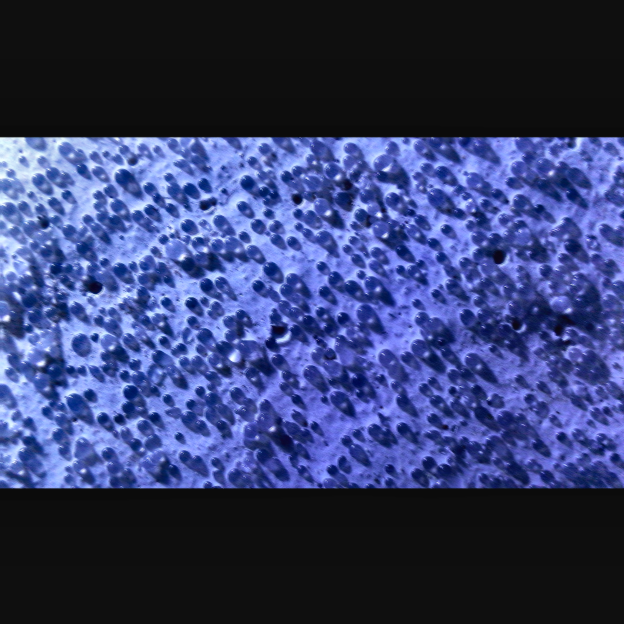GrassBeadSeg: (4, 165, 580, 480), (71, 159, 595, 469), (73, 143, 471, 472), (81, 148, 585, 393), (85, 257, 612, 474), (127, 259, 623, 483), (26, 218, 554, 420), (111, 135, 470, 420), (176, 160, 514, 457), (107, 154, 452, 443), (276, 193, 613, 487), (204, 220, 618, 459), (50, 251, 567, 436), (44, 158, 471, 376), (111, 174, 479, 421), (130, 139, 425, 445), (128, 292, 614, 471), (143, 212, 509, 444), (300, 141, 606, 418), (198, 135, 559, 365), (61, 224, 417, 452), (201, 238, 528, 486), (94, 201, 438, 422), (365, 140, 612, 435), (73, 164, 577, 306), (119, 252, 567, 411), (211, 294, 584, 478), (135, 236, 437, 460), (105, 206, 366, 465), (43, 306, 450, 472), (30, 163, 303, 408), (227, 174, 517, 398), (244, 226, 523, 453), (159, 285, 506, 465), (381, 217, 609, 484), (106, 255, 471, 419), (214, 248, 537, 428), (178, 193, 427, 423), (128, 190, 399, 398), (61, 383, 603, 486), (196, 139, 440, 363), (258, 182, 493, 410), (98, 348, 554, 465), (196, 217, 560, 360), (114, 351, 509, 480), (405, 165, 566, 478), (190, 158, 373, 429), (197, 170, 521, 320), (33, 278, 623, 360), (294, 175, 571, 347), (213, 245, 434, 460), (394, 221, 611, 432), (208, 376, 608, 487), (189, 187, 501, 325), (333, 274, 609, 428), (201, 300, 608, 403), (164, 289, 618, 373), (102, 182, 509, 275), (349, 135, 594, 262), (184, 397, 549, 479), (348, 192, 501, 386), (485, 241, 623, 443), (238, 164, 448, 292), (331, 322, 598, 421), (112, 167, 338, 283), (29, 171, 448, 233), (71, 331, 298, 445), (51, 426, 552, 477), (215, 376, 500, 465), (166, 279, 297, 472), (327, 240, 481, 403), (383, 268, 505, 470), (324, 140, 397, 473), (354, 149, 526, 289), (516, 188, 615, 429), (178, 158, 523, 227), (130, 298, 305, 434), (60, 430, 606, 472), (370, 291, 575, 401), (445, 143, 538, 378), (120, 259, 277, 397), (393, 263, 522, 416), (63, 391, 508, 435), (234, 311, 442, 404), (25, 342, 496, 381), (418, 229, 485, 467), (342, 140, 464, 266), (393, 294, 531, 405), (178, 221, 284, 363), (242, 304, 569, 349), (61, 163, 263, 234), (75, 162, 141, 366), (536, 176, 619, 337), (45, 322, 299, 374), (536, 156, 582, 437), (382, 173, 469, 321), (237, 161, 375, 250), (414, 312, 520, 418), (164, 180, 540, 208), (59, 141, 184, 223), (1, 398, 127, 473), (4, 363, 92, 469), (358, 135, 468, 215), (467, 330, 606, 392), (426, 236, 519, 328), (223, 153, 312, 248), (203, 286, 351, 341), (408, 337, 533, 402), (180, 168, 268, 258), (359, 428, 494, 483), (70, 179, 204, 231), (119, 159, 205, 237), (414, 169, 485, 263), (295, 426, 437, 473), (547, 168, 619, 260), (432, 249, 476, 399), (416, 322, 510, 391), (291, 152, 390, 216), (22, 341, 100, 422), (90, 147, 187, 210), (244, 177, 322, 255), (411, 213, 597, 245), (281, 234, 378, 295), (74, 217, 165, 282), (447, 384, 507, 482), (129, 211, 167, 365), (556, 141, 621, 229), (0, 159, 121, 206), (249, 424, 362, 472), (169, 177, 202, 340), (267, 173, 324, 267), (256, 141, 329, 213), (10, 224, 101, 281), (486, 157, 546, 241), (483, 281, 611, 320), (235, 337, 518, 354), (121, 277, 195, 342), (455, 238, 548, 288), (265, 286, 330, 357), (520, 151, 553, 287), (205, 163, 294, 211), (355, 177, 383, 325), (117, 143, 158, 237), (424, 411, 564, 438), (304, 154, 364, 217), (60, 142, 126, 199), (348, 178, 424, 227), (486, 299, 522, 401), (254, 419, 343, 460), (0, 157, 44, 239), (105, 254, 152, 328), (278, 347, 478, 364), (352, 229, 421, 276), (138, 300, 217, 340), (290, 387, 360, 431), (471, 139, 488, 318), (124, 238, 181, 291), (411, 171, 486, 211), (267, 228, 299, 321), (532, 206, 577, 272), (48, 260, 104, 310), (15, 239, 48, 321), (262, 304, 326, 346), (228, 431, 277, 481), (3, 351, 114, 373), (110, 405, 169, 446), (252, 141, 290, 204), (165, 136, 254, 162), (302, 187, 372, 220), (6, 322, 57, 366), (326, 333, 362, 395), (340, 160, 425, 186), (353, 221, 382, 294), (8, 200, 47, 253), (316, 283, 374, 315), (66, 256, 106, 301), (240, 404, 264, 478), (298, 433, 348, 468), (26, 300, 103, 322), (99, 445, 163, 471), (318, 378, 397, 399), (189, 363, 224, 410), (135, 244, 168, 292), (205, 368, 284, 388), (504, 456, 595, 473), (355, 323, 383, 378), (234, 441, 296, 465), (278, 433, 464, 441), (211, 206, 244, 250), (300, 313, 332, 358), (567, 355, 612, 387), (232, 407, 254, 471), (33, 212, 89, 237), (3, 269, 34, 314), (302, 172, 336, 213), (148, 349, 170, 411), (457, 277, 489, 319), (526, 438, 569, 469), (235, 199, 279, 229), (410, 282, 440, 325), (206, 352, 256, 377), (443, 258, 482, 290), (54, 411, 86, 449), (16, 441, 88, 457), (243, 367, 289, 392), (4, 154, 58, 175), (152, 250, 205, 270), (214, 313, 235, 362), (44, 140, 70, 178), (72, 316, 101, 346), (476, 448, 533, 463), (20, 302, 44, 335), (542, 339, 580, 359), (532, 445, 585, 459), (189, 353, 217, 379), (574, 367, 596, 399), (94, 197, 120, 224), (244, 278, 262, 316), (322, 154, 352, 176), (313, 228, 328, 270), (112, 342, 182, 351), (156, 348, 189, 366), (168, 325, 186, 354), (452, 404, 465, 440), (492, 252, 518, 269), (529, 269, 548, 291), (546, 327, 572, 343), (546, 279, 579, 291), (446, 387, 473, 401), (520, 147, 551, 159), (294, 392, 325, 404), (93, 313, 113, 330), (477, 252, 494, 272), (501, 236, 520, 253), (278, 368, 292, 390), (426, 186, 445, 202), (225, 469, 246, 483), (284, 272, 297, 292), (553, 271, 584, 279), (513, 226, 530, 240), (342, 278, 359, 292), (231, 307, 246, 322), (162, 171, 171, 196), (470, 246, 484, 259), (572, 270, 582, 288), (455, 394, 471, 405), (343, 324, 356, 336), (73, 436, 86, 448), (463, 171, 477, 182), (101, 335, 113, 347), (516, 283, 528, 294), (607, 328, 617, 340), (278, 283, 288, 293), (127, 437, 138, 446), (568, 280, 579, 289), (553, 264, 565, 272), (566, 345, 576, 354), (520, 280, 531, 288), (501, 228, 513, 235), (24, 446, 31, 458), (98, 332, 110, 339), (482, 276, 491, 284), (379, 224, 385, 235), (560, 215, 568, 223), (530, 437, 538, 445), (266, 423, 278, 428), (553, 224, 561, 231), (613, 224, 620, 232), (539, 263, 550, 268), (363, 290, 370, 297), (237, 406, 245, 412), (374, 170, 383, 175), (289, 393, 294, 402), (56, 442, 60, 452), (457, 434, 462, 441), (280, 425, 285, 432), (196, 326, 207, 329), (447, 400, 451, 405), (448, 397, 454, 400)
